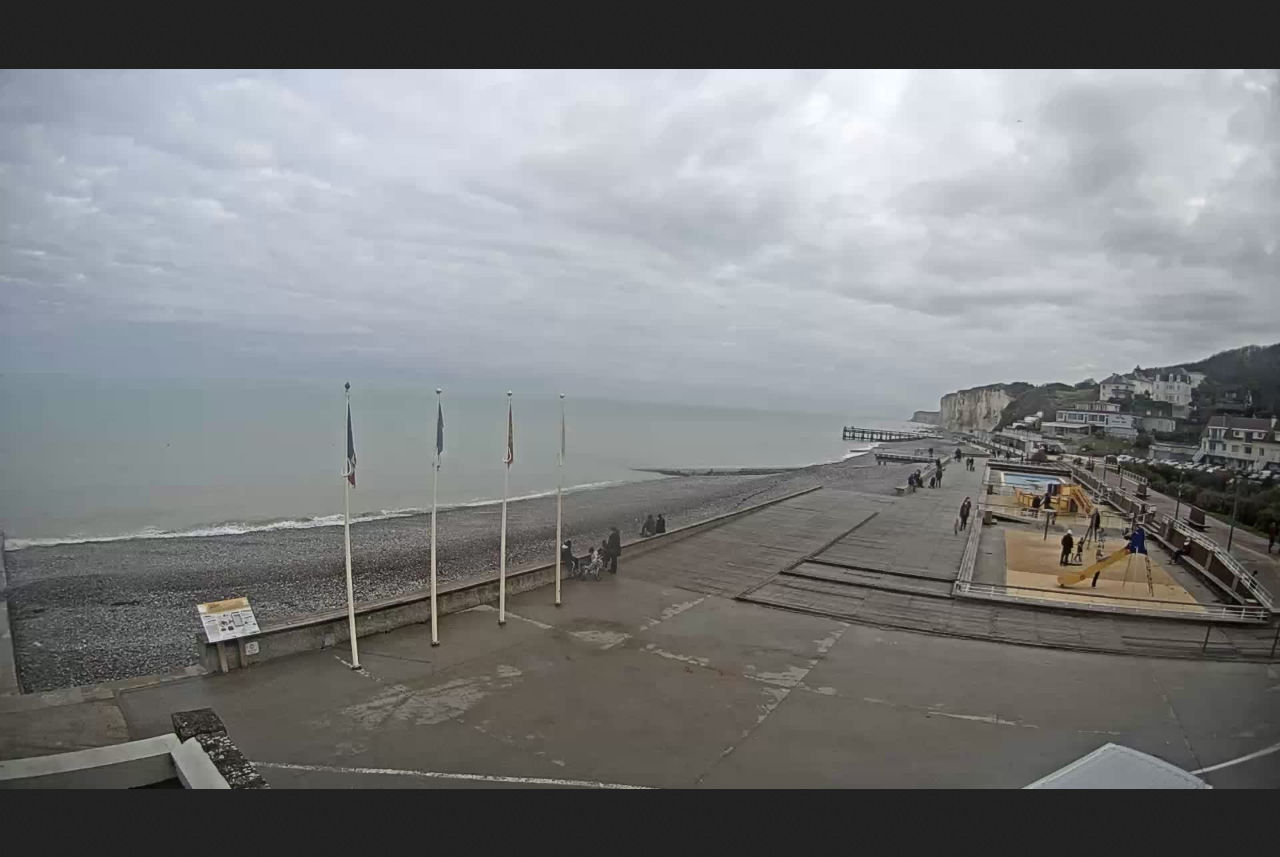no: (337, 387, 362, 495), (427, 395, 451, 458), (501, 395, 520, 470), (554, 388, 572, 462)
